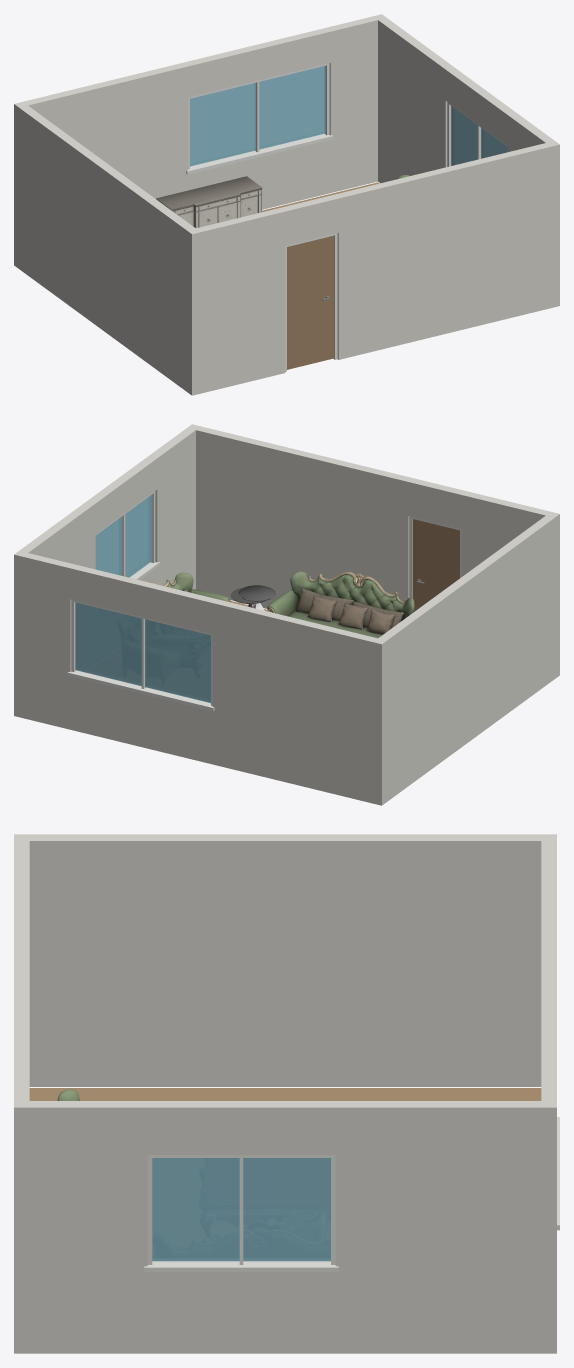
The model's file is atiss.glb.
The picture shows the model from 3 angles, top to bottom: view 1: azimuth 30°, elevation 25°; view 2: azimuth 150°, elevation 25°; view 3: azimuth 270°, elevation 25°; orthographic projection. The views are drawn at different scales.
Parts seen in each view (by area): view 1: wall|scenesmith_029__R00|0, wall|scenesmith_029__R00|1, wall|scenesmith_029__R00|2, wall|scenesmith_029__R00|3, wall|scenesmith_029__R00|1 Window 0 | glazing, wall|scenesmith_029__R00|0 Door 0 | wood leaf, raw_model.001, wall|scenesmith_029__R00|1 Window 0 | jamb, wall|scenesmith_029__R00|3 Window 0 | glazing, wall|scenesmith_029__R00|0 Door 0 | jamb, wall|scenesmith_029__R00|3 Window 0 | jamb; view 2: wall|scenesmith_029__R00|1, wall|scenesmith_029__R00|0, wall|scenesmith_029__R00|2, wall|scenesmith_029__R00|3, wall|scenesmith_029__R00|1 Window 0 | glazing, raw_model, wall|scenesmith_029__R00|0 Door 0 | wood leaf, wall|scenesmith_029__R00|3 Window 0 | glazing, wall|scenesmith_029__R00|1 Window 0 | jamb, wall|scenesmith_029__R00|3 Window 0 | jamb, solid_001, wall|scenesmith_029__R00|0 Door 0 | jamb; view 3: wall|scenesmith_029__R00|2, wall|scenesmith_029__R00|3, wall|scenesmith_029__R00|3 Window 0 | glazing, wall|scenesmith_029__R00|0, wall|scenesmith_029__R00|1, floor, wall|scenesmith_029__R00|3 Window 0 | jamb.
Boxes of the visible parts, x1,y1,x2,y2 form: wall|scenesmith_029__R00|0: [187, 141, 559, 393]; wall|scenesmith_029__R00|1: [14, 16, 377, 268]; wall|scenesmith_029__R00|2: [14, 103, 200, 395]; wall|scenesmith_029__R00|3: [373, 14, 559, 307]; wall|scenesmith_029__R00|1 Window 0 | glazing: [190, 65, 325, 166]; wall|scenesmith_029__R00|0 Door 0 | wood leaf: [287, 235, 334, 369]; raw_model.001: [156, 176, 262, 228]; wall|scenesmith_029__R00|1 Window 0 | jamb: [186, 63, 333, 174]; wall|scenesmith_029__R00|3 Window 0 | glazing: [451, 106, 507, 165]; wall|scenesmith_029__R00|0 Door 0 | jamb: [285, 233, 337, 371]; wall|scenesmith_029__R00|3 Window 0 | jamb: [447, 102, 507, 166]; wall|scenesmith_029__R00|1: [23, 553, 386, 805]; wall|scenesmith_029__R00|0: [187, 424, 559, 608]; wall|scenesmith_029__R00|2: [373, 514, 559, 805]; wall|scenesmith_029__R00|3: [14, 428, 195, 717]; wall|scenesmith_029__R00|1 Window 0 | glazing: [75, 602, 210, 702]; raw_model: [150, 571, 414, 638]; wall|scenesmith_029__R00|0 Door 0 | wood leaf: [412, 519, 459, 611]; wall|scenesmith_029__R00|3 Window 0 | glazing: [95, 495, 151, 577]; wall|scenesmith_029__R00|1 Window 0 | jamb: [67, 599, 214, 711]; wall|scenesmith_029__R00|3 Window 0 | jamb: [95, 491, 159, 579]; solid_001: [238, 585, 275, 610]; wall|scenesmith_029__R00|0 Door 0 | jamb: [409, 516, 461, 597]; wall|scenesmith_029__R00|2: [29, 834, 556, 1086]; wall|scenesmith_029__R00|3: [29, 1101, 556, 1353]; wall|scenesmith_029__R00|3 Window 0 | glazing: [152, 1158, 330, 1261]; wall|scenesmith_029__R00|0: [14, 834, 29, 1353]; wall|scenesmith_029__R00|1: [541, 834, 556, 1353]; floor: [29, 1088, 541, 1100]; wall|scenesmith_029__R00|3 Window 0 | jamb: [144, 1155, 338, 1272].
Bounding box in the file's own units: 6.23 × 2.61 × 5.23.
12 materials, 6 textured.
